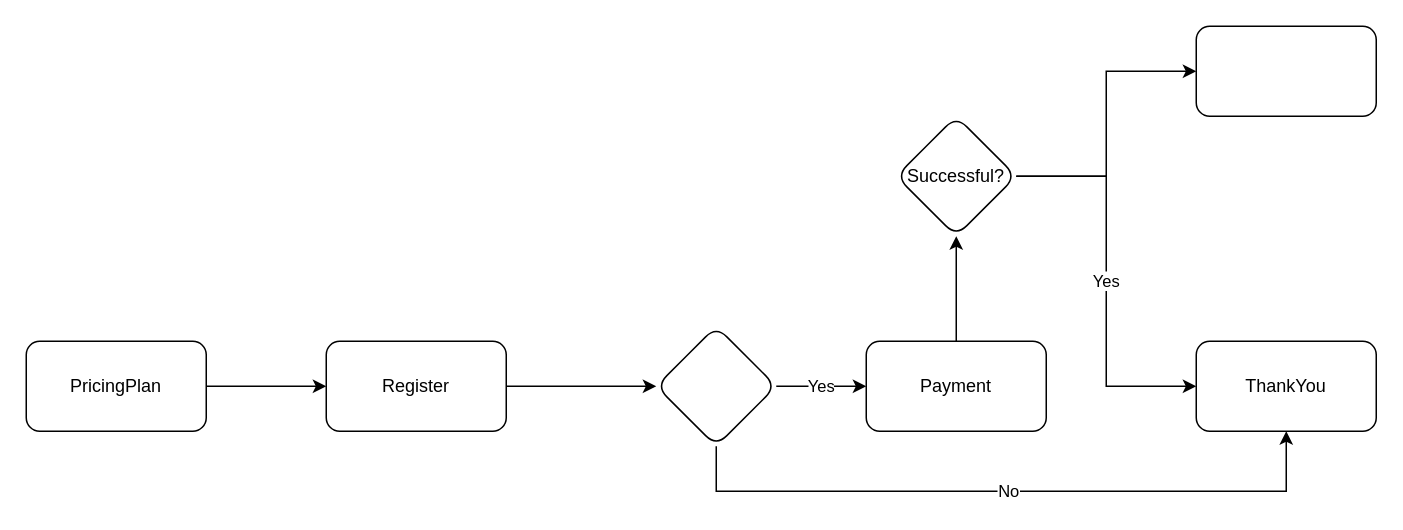
Some shapes in this 1403 by 530 pixel diagram are drawn without their labels. The shapes that lost their labels are listed below. From the top down, each one's centre as x and y in pixels, then its label:
At (x=1285, y=70): "Failed".
At (x=715, y=385): "Premium?".
